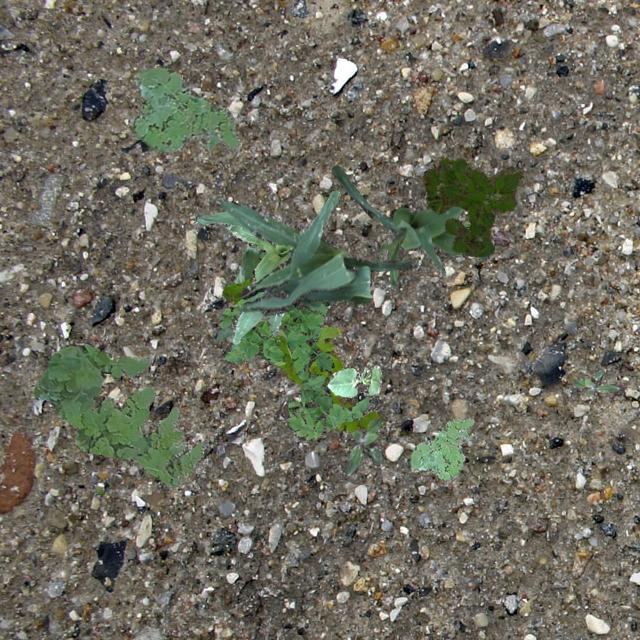crop: (212, 188, 416, 314), (330, 164, 490, 290), (196, 210, 292, 342), (210, 245, 258, 342), (326, 364, 382, 396)
weed: (222, 277, 384, 433), (32, 344, 204, 486), (218, 296, 378, 439), (422, 156, 524, 256), (128, 66, 240, 150), (410, 418, 472, 482), (344, 418, 382, 474), (572, 368, 618, 394)
